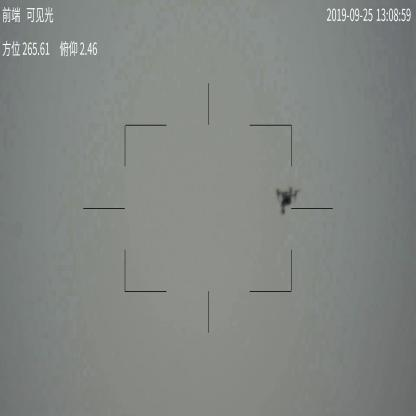uav: (275, 185, 300, 216)
